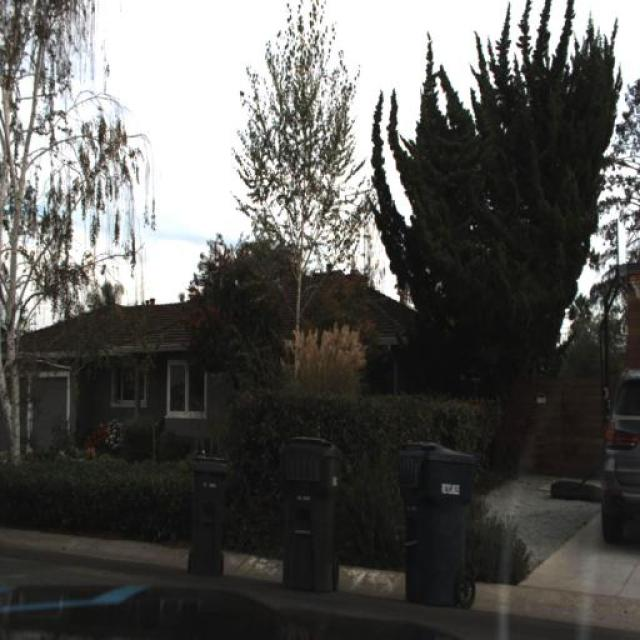car: (600, 367, 640, 547)
